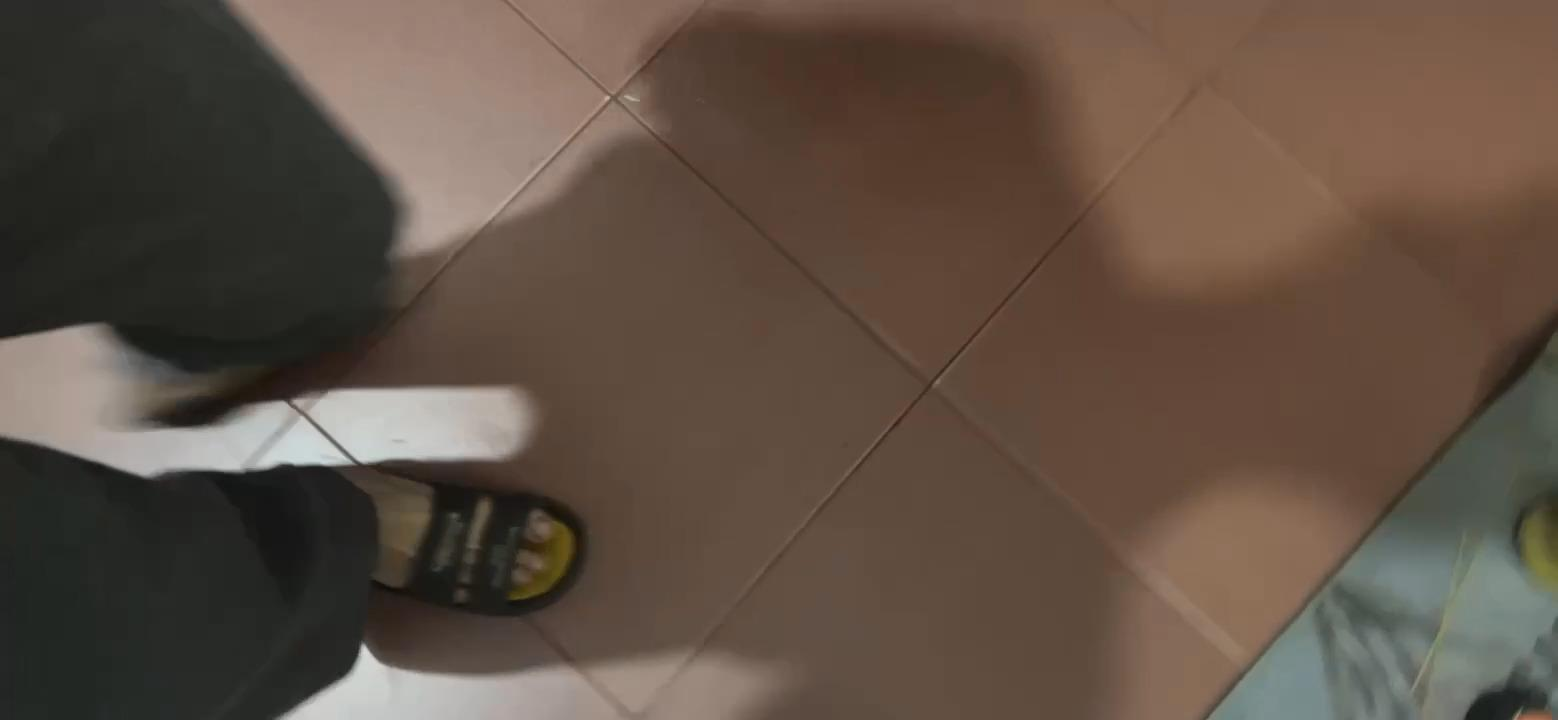no-boot: (293, 453, 578, 610)
